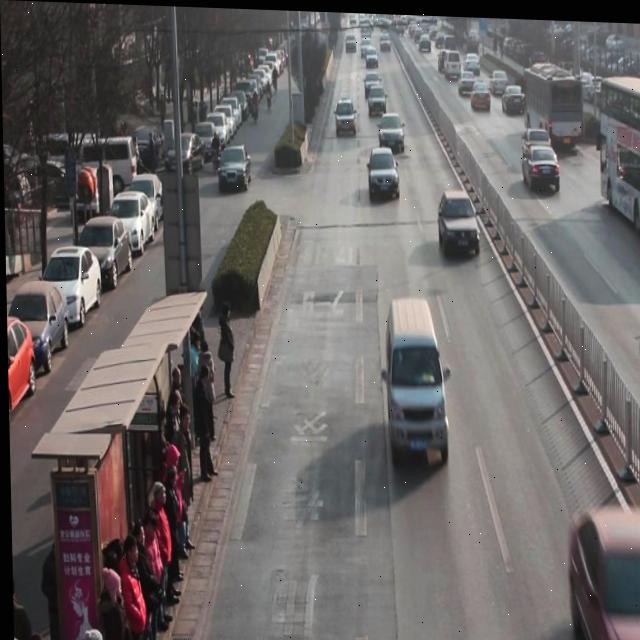car: (569, 503, 640, 640), (438, 189, 480, 259), (522, 143, 561, 190), (367, 146, 400, 201), (378, 109, 405, 154), (521, 126, 552, 164), (501, 83, 527, 115), (336, 98, 357, 136), (471, 78, 491, 110), (368, 84, 387, 117), (489, 66, 509, 95), (458, 69, 477, 96), (364, 70, 382, 96)
truck: (384, 295, 447, 465)
van: (594, 75, 640, 240), (520, 59, 577, 149)
